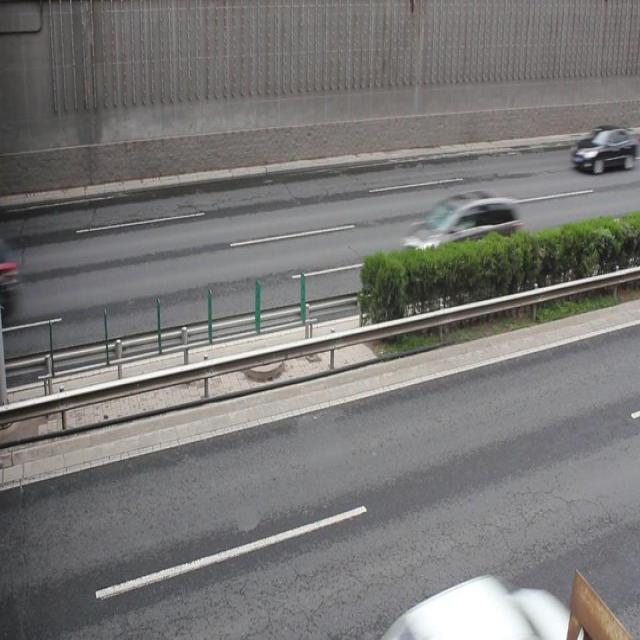car: (385, 575, 569, 640), (404, 189, 519, 278), (569, 122, 630, 173)
